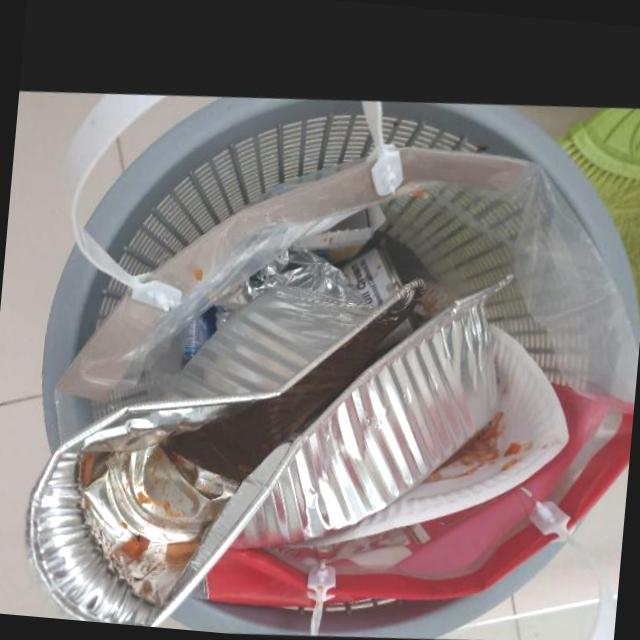carton: (285, 323, 570, 545), (291, 198, 388, 260)
nhom: (27, 275, 514, 625), (258, 241, 366, 299), (343, 242, 402, 303)
